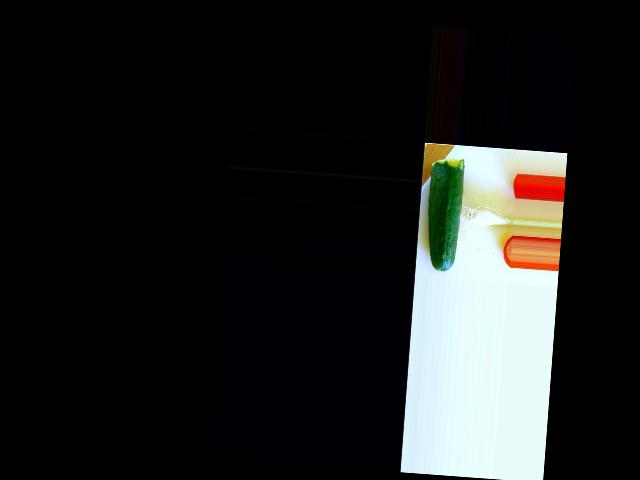cucumber: (423, 156, 464, 273)
